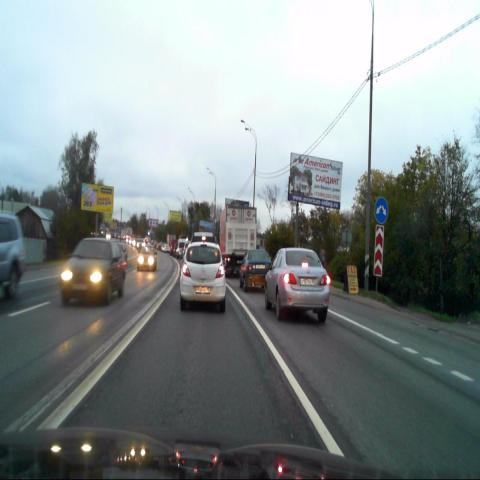4_2_3: (374, 198, 388, 224)
